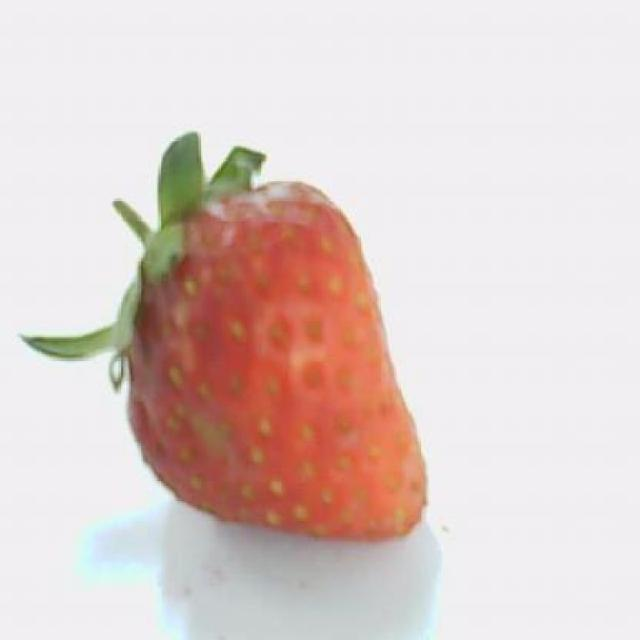strawberry: (24, 132, 426, 539)
